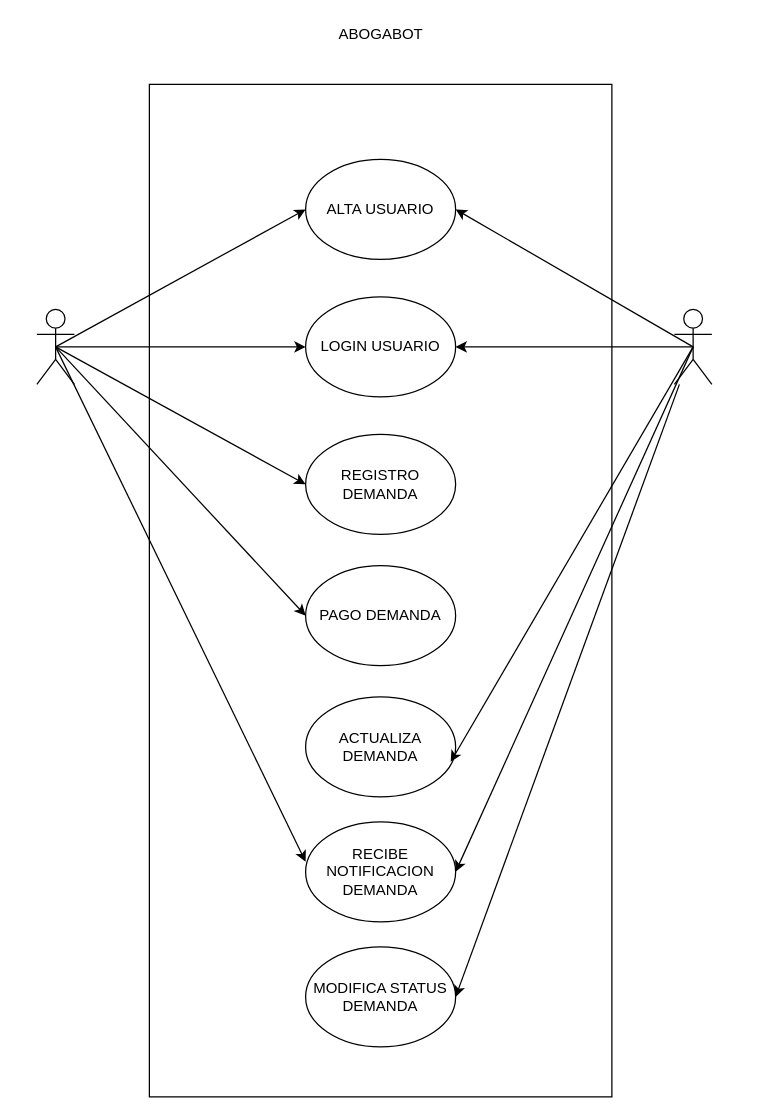
This 778x1119 diagram has some shape labels left out. The shapes that lost their labels are listed below. From the top down, each one's centre as x and y in pixels, then its label:
At [55,346]: "USUARIO".
At [692,346]: "ADMINISTRADOR".
